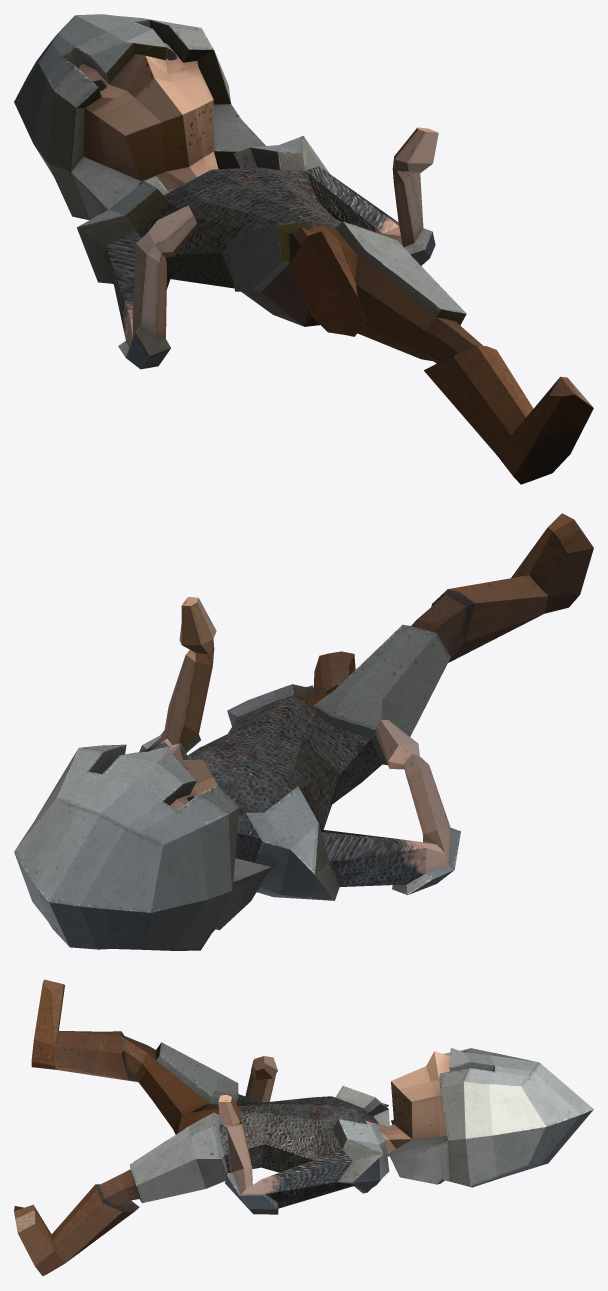
The model's file is Walk_Soldier_3.obj.
The picture shows the model from 3 angles, top to bottom: view 1: azimuth 30°, elevation 25°; view 2: azimuth 150°, elevation 25°; view 3: azimuth 270°, elevation 25°; orthographic projection. The views are drawn at different scales.
Visible parts, largest first — view 1: Soldado_LowPolySTD; view 2: Soldado_LowPolySTD; view 3: Soldado_LowPolySTD.
Part boxes in pixels (box(x1,y1,x2,y2)): Soldado_LowPolySTD: box(14, 14, 593, 484); Soldado_LowPolySTD: box(14, 513, 593, 950); Soldado_LowPolySTD: box(14, 979, 593, 1275).
Bounding box in the file's own units: 0.6891 × 0.671 × 1.61.
